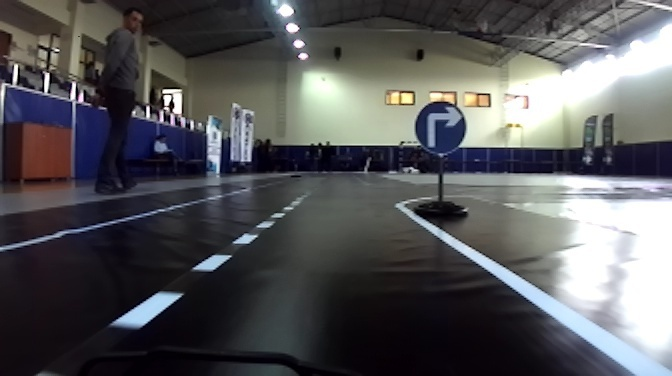saga_donus: (413, 102, 466, 152)
